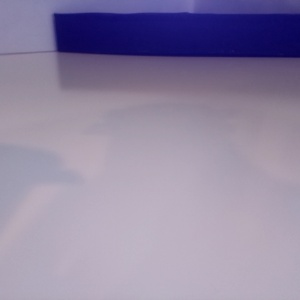zone: (54, 12, 300, 56)
